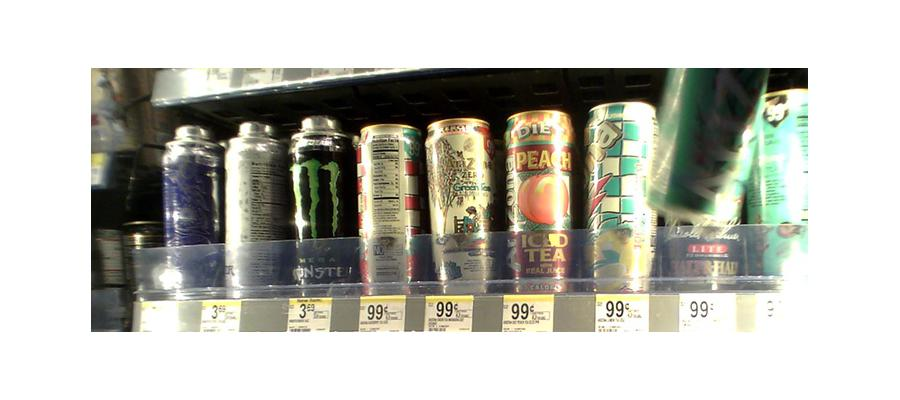bottle: (660, 65, 735, 279), (584, 95, 659, 295), (739, 80, 808, 289), (505, 107, 578, 293), (427, 116, 501, 291), (354, 122, 422, 297), (222, 121, 287, 301), (290, 116, 349, 295), (162, 122, 218, 298)
